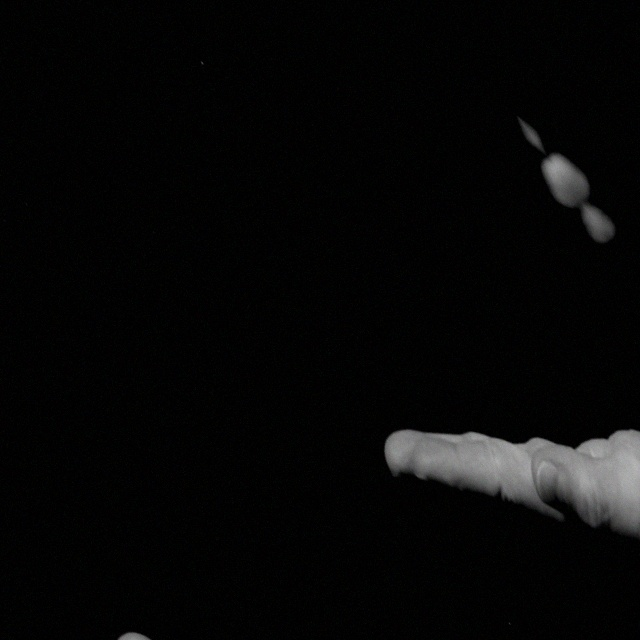Rock: (468, 19, 640, 260)
